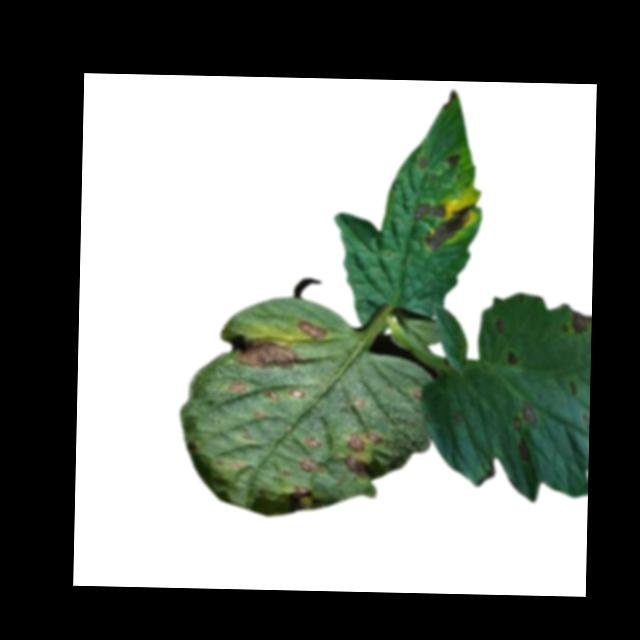Early_blight: (424, 204, 474, 251), (230, 337, 300, 369), (287, 483, 326, 511), (346, 429, 386, 454), (511, 401, 538, 431), (339, 455, 371, 480), (411, 198, 447, 220), (294, 318, 328, 339), (295, 455, 324, 475), (570, 309, 591, 333), (515, 434, 532, 463), (228, 378, 249, 396), (286, 383, 305, 400), (303, 433, 321, 450), (413, 154, 430, 170), (263, 387, 280, 403), (504, 346, 518, 365), (445, 152, 459, 169), (494, 315, 504, 333)
